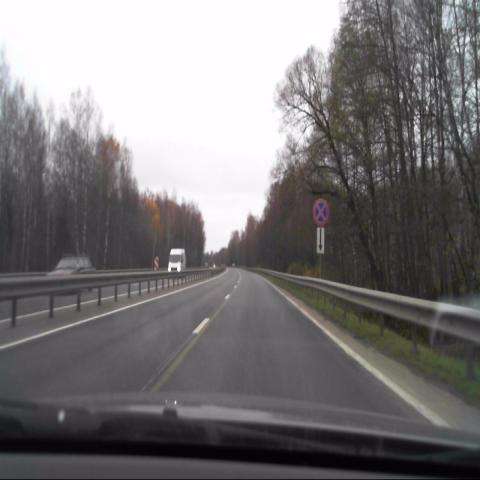3_27: (312, 197, 329, 227)
8_2_3: (316, 228, 326, 256)
